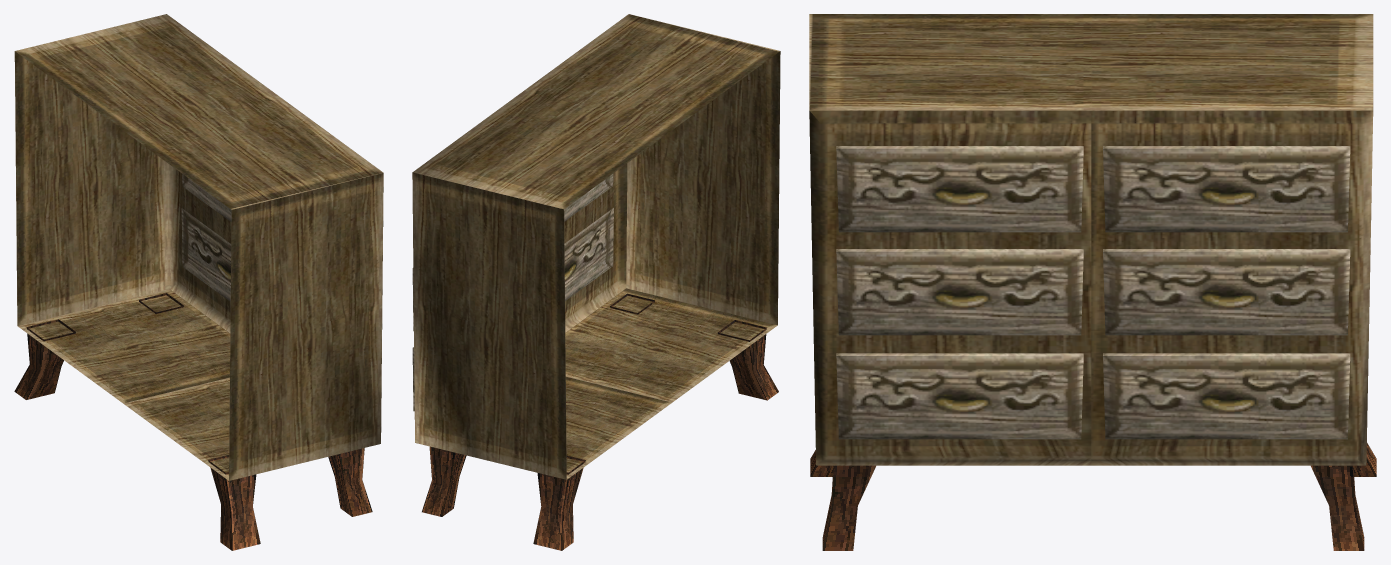
Rendered from INST_LT_LG_DRESSER.obj.
3 renders of one model, left to right at view 1: azimuth 30°, elevation 25°; view 2: azimuth 150°, elevation 25°; view 3: azimuth 270°, elevation 25°, orthographic. The views are drawn at different scales.
Visible parts, largest first — view 1: st_Lg_dresser1_; view 2: st_Lg_dresser1_; view 3: st_Lg_dresser1_.
Part boxes in pixels (x1,y1,x2,y2): st_Lg_dresser1_: (14, 14, 383, 550); st_Lg_dresser1_: (412, 14, 780, 550); st_Lg_dresser1_: (809, 14, 1376, 550).
Size of the model in its own units: 52.81 by 105 by 121.
